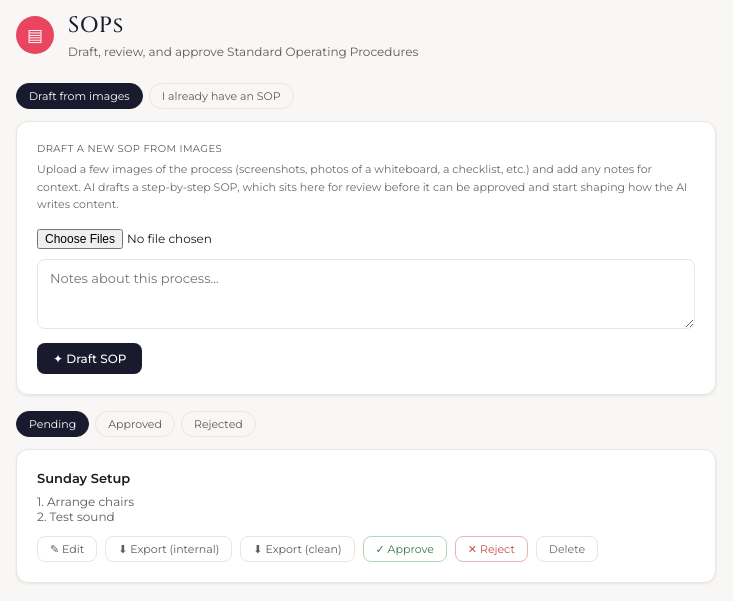
approves a pending SOP draft
The image size is (733, 601).
Check: the text "Sunday Setup" is shown, box [37,470,130,486]
Click the button "✓ Approve" at (405, 549), box [362,536,447,562]
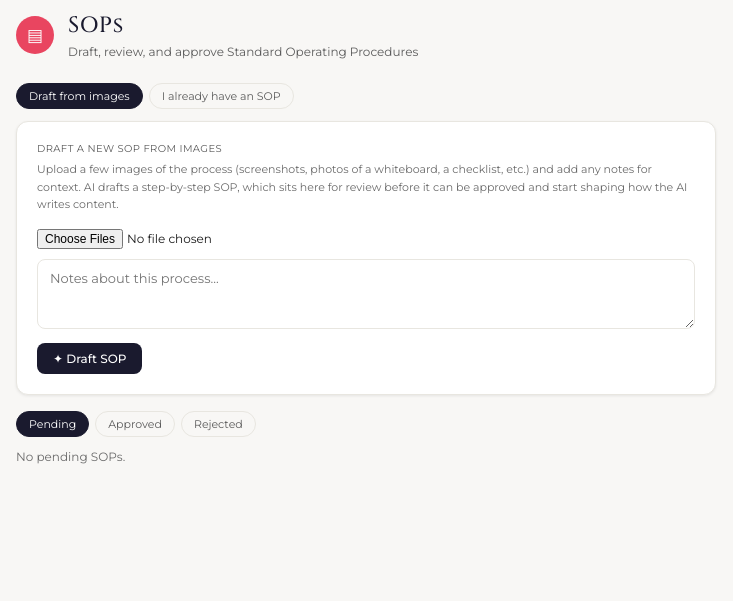
Check: the text "Sunday Setup" is gone
